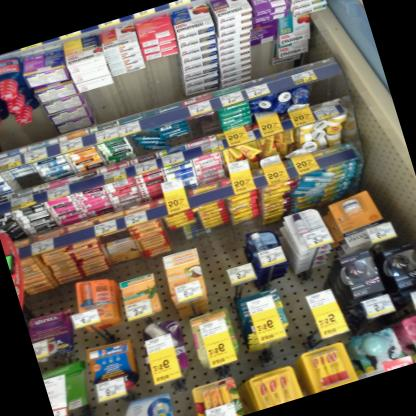empty_space: (143, 58, 186, 109), (0, 114, 46, 156), (113, 70, 152, 115), (242, 41, 285, 81), (82, 82, 121, 126)
